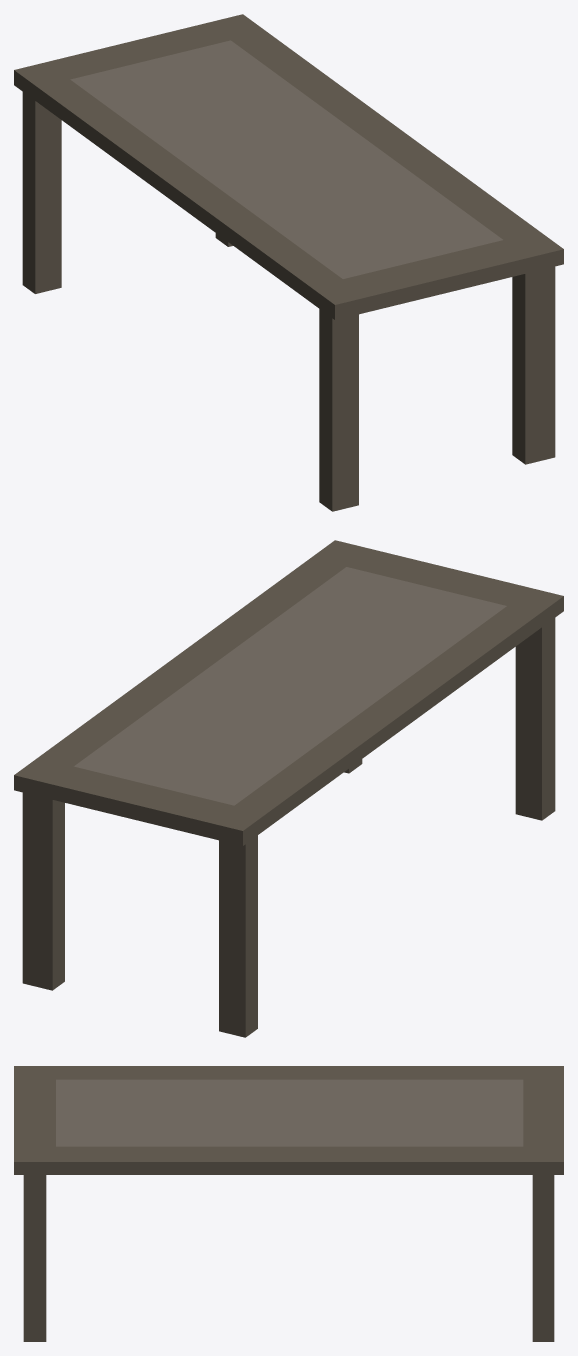
File: Table.fbx
3 renders of one model, top to bottom at view 1: azimuth 30°, elevation 25°; view 2: azimuth 150°, elevation 25°; view 3: azimuth 270°, elevation 25°, orthographic. The views are drawn at different scales.
Parts seen in each view (by area): view 1: Table; view 2: Table; view 3: Table.
Part boxes in pixels (x1,y1,x2,y2): Table: (14, 14, 563, 511); Table: (14, 540, 563, 1037); Table: (14, 1066, 563, 1341).
Bounding box in the file's own units: 178 × 157 × 432.
1 material, 1 textured.
